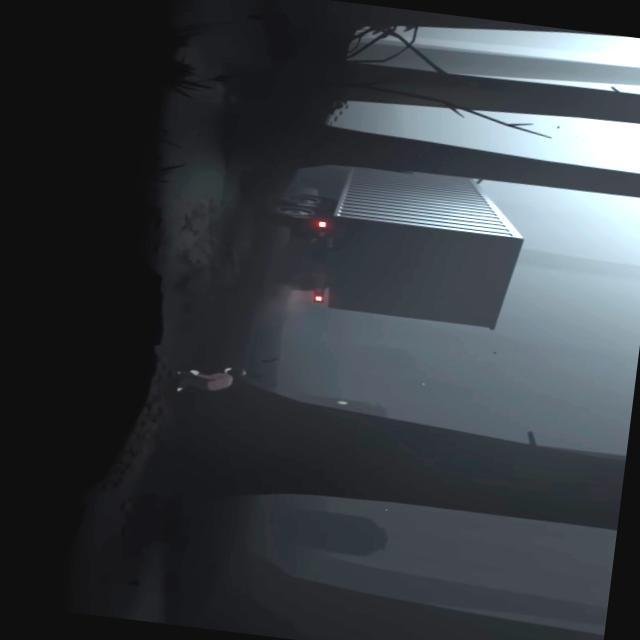boy: (171, 358, 246, 399)
